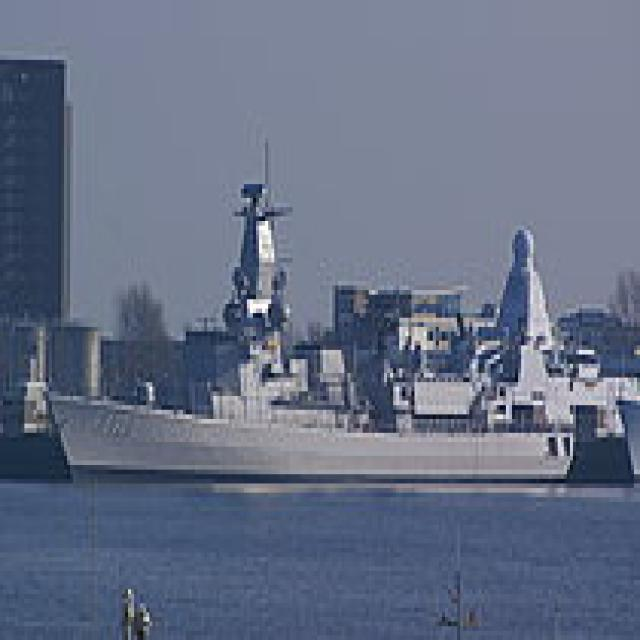Warship: (33, 156, 573, 479)
